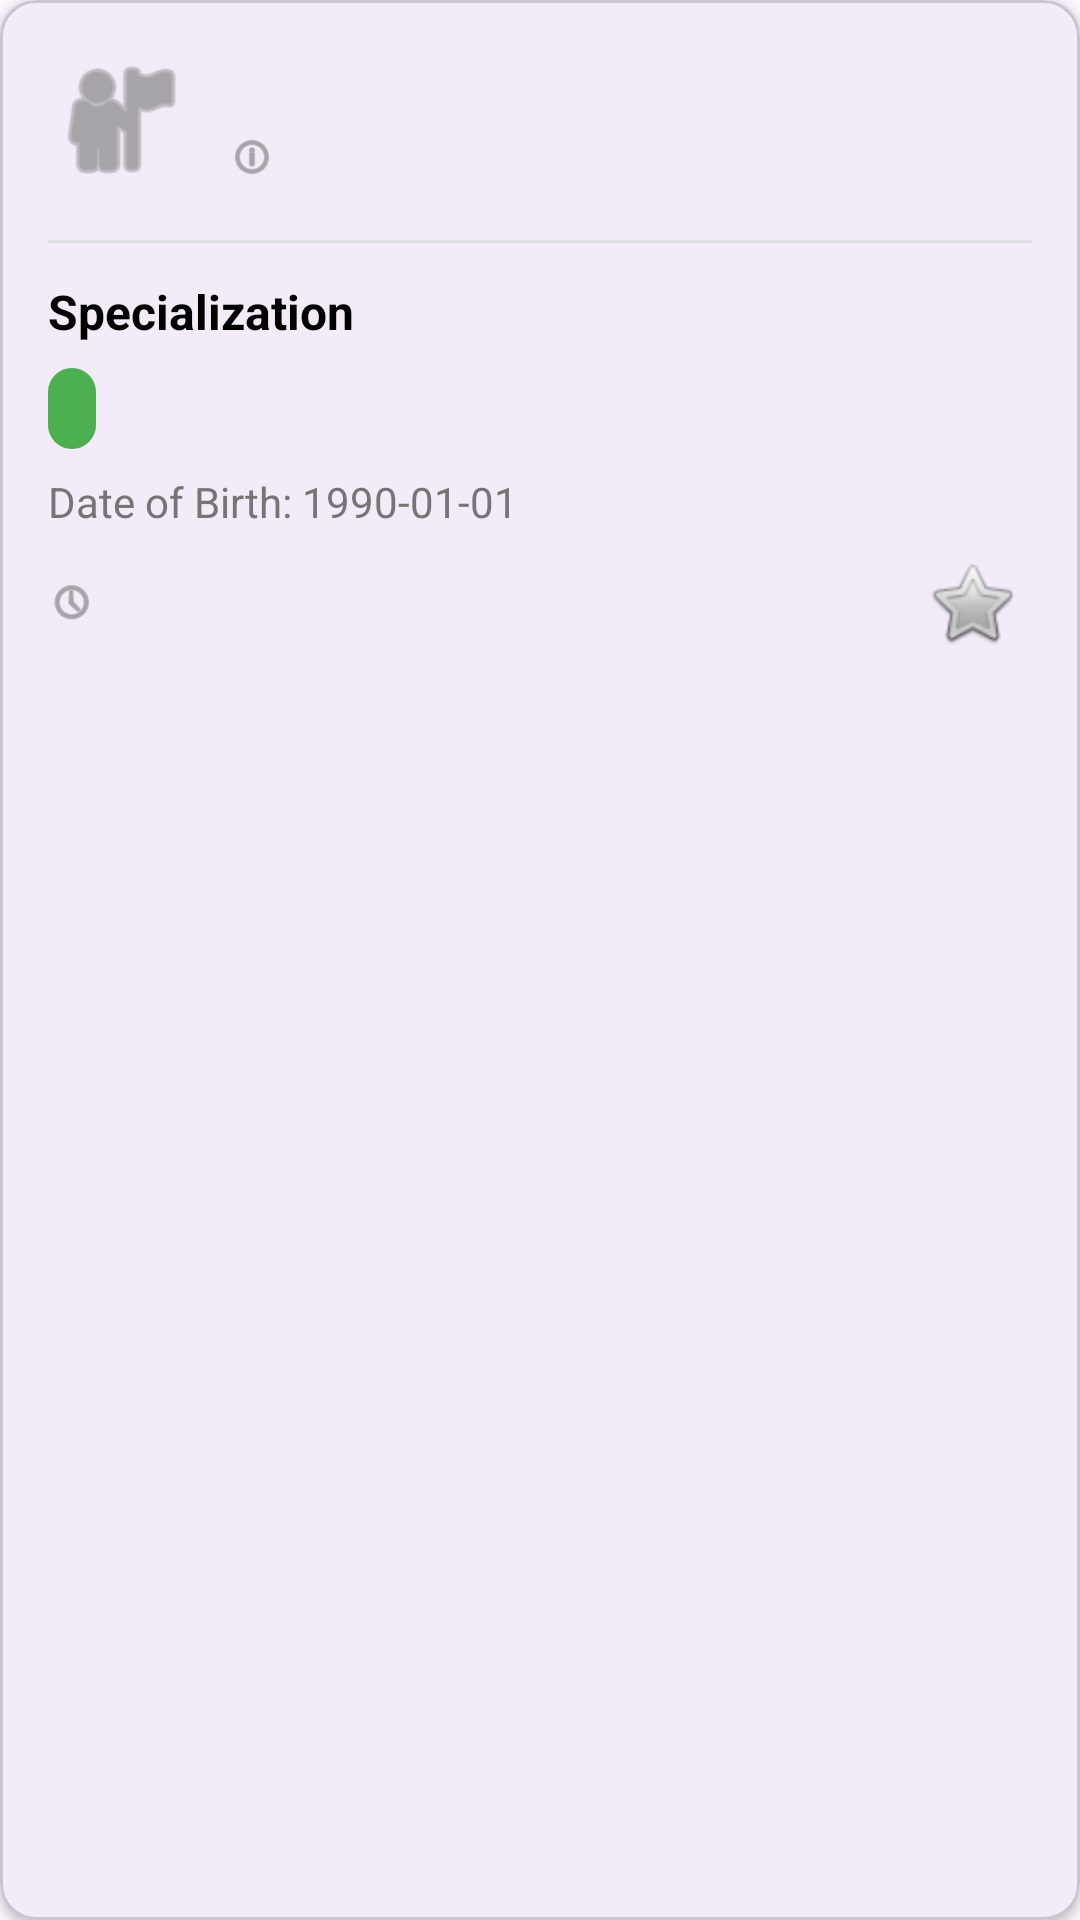

Where to tap for icons on this 1080px x 1920px app screen, as point (x, y):
info details: point (252, 157)
myplaces: point (121, 120)
recent history: point (71, 602)
